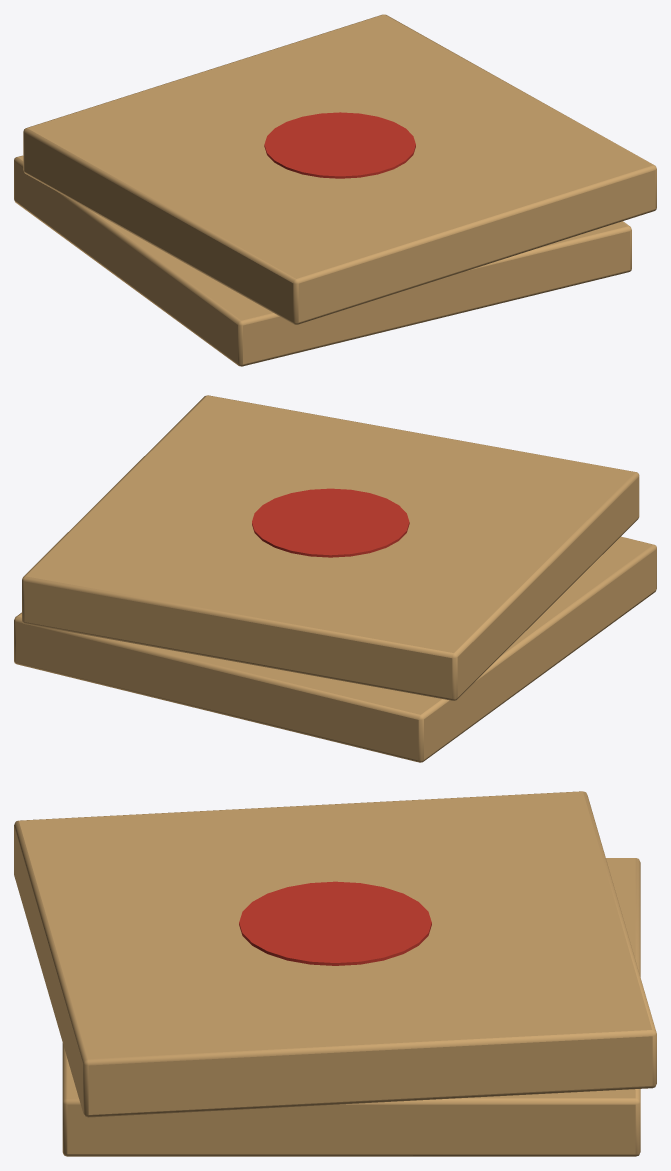
Rendered from pizza_box.fbx.
The picture shows the model from 3 angles, top to bottom: view 1: azimuth 30°, elevation 25°; view 2: azimuth 150°, elevation 25°; view 3: azimuth 270°, elevation 25°; orthographic projection. The views are drawn at different scales.
Parts seen in each view (by area): view 1: PizzaBoxes; view 2: PizzaBoxes; view 3: PizzaBoxes.
Part boxes in pixels (box(x1,y1,x2,y2)): PizzaBoxes: box(14, 14, 656, 366); PizzaBoxes: box(14, 395, 656, 762); PizzaBoxes: box(14, 791, 656, 1156).
Size of the model in its own units: 0.4005 by 0.083 by 0.4005.
